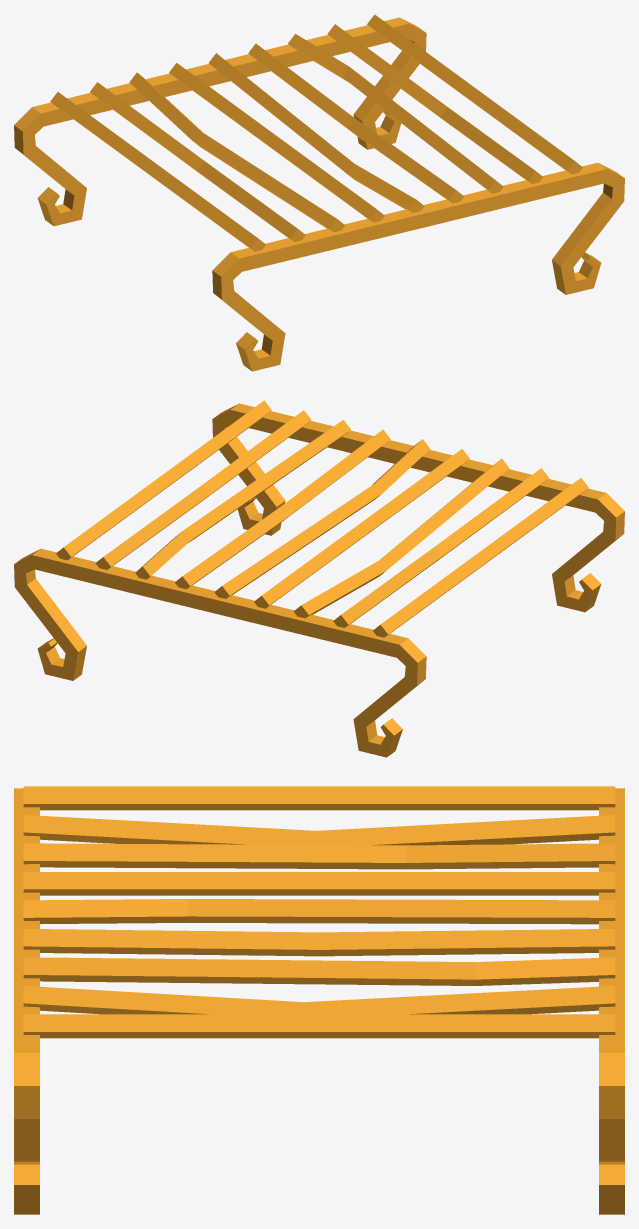
Rendered from SM_Kitchen_Grill_Fantasy.fbx.
3 views of the same model, one above another, from view 1: azimuth 30°, elevation 25°; view 2: azimuth 150°, elevation 25°; view 3: azimuth 270°, elevation 25° (orthographic). The views are drawn at different scales.
Parts seen in each view (by area): view 1: kitchen-grill-fantasy; view 2: kitchen-grill-fantasy; view 3: kitchen-grill-fantasy.
Part boxes in pixels (x1,y1,x2,y2): kitchen-grill-fantasy: [14, 14, 624, 371]; kitchen-grill-fantasy: [14, 400, 624, 757]; kitchen-grill-fantasy: [14, 786, 624, 1214].
Size of the model in its own units: 0.4588 by 0.1394 by 0.4079.
